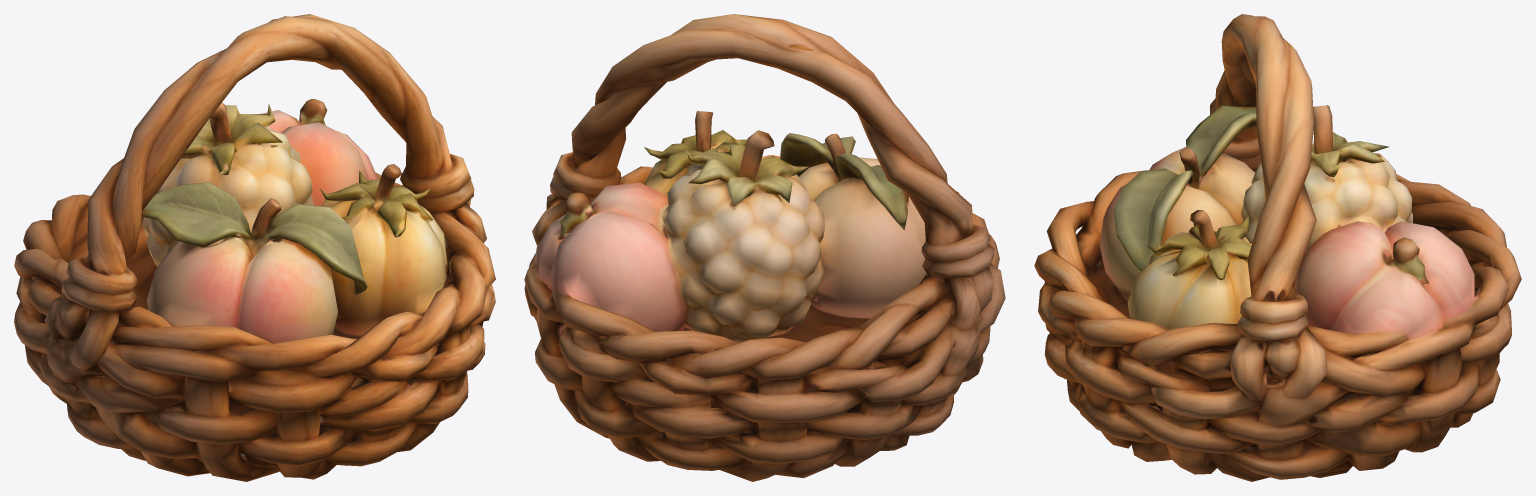
The model's file is fruit-basket.glb.
The picture shows the model from 3 angles, left to right: view 1: azimuth 30°, elevation 25°; view 2: azimuth 150°, elevation 25°; view 3: azimuth 270°, elevation 25°; orthographic projection.
Parts seen in each view (by area): view 1: tripo_node_2883e3e0-5a09-4576-9485-247d43252722; view 2: tripo_node_2883e3e0-5a09-4576-9485-247d43252722; view 3: tripo_node_2883e3e0-5a09-4576-9485-247d43252722.
Boxes of the visible parts, box(x1,y1,x2,y2) form: tripo_node_2883e3e0-5a09-4576-9485-247d43252722: box(14, 14, 495, 481); tripo_node_2883e3e0-5a09-4576-9485-247d43252722: box(524, 14, 1005, 481); tripo_node_2883e3e0-5a09-4576-9485-247d43252722: box(1034, 14, 1521, 481).
Bounding box in the file's own units: 0.9777 × 0.8438 × 0.9701.
Materials: 1 (1 with a texture image).
